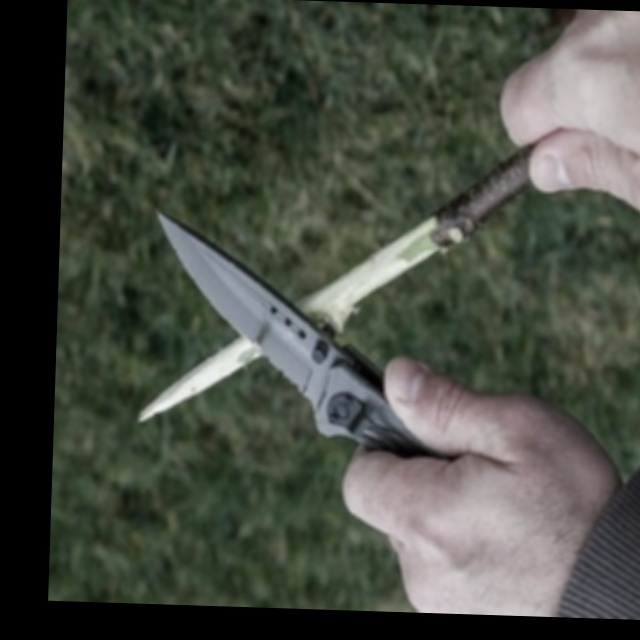Sharp-Object: (149, 209, 472, 455)
